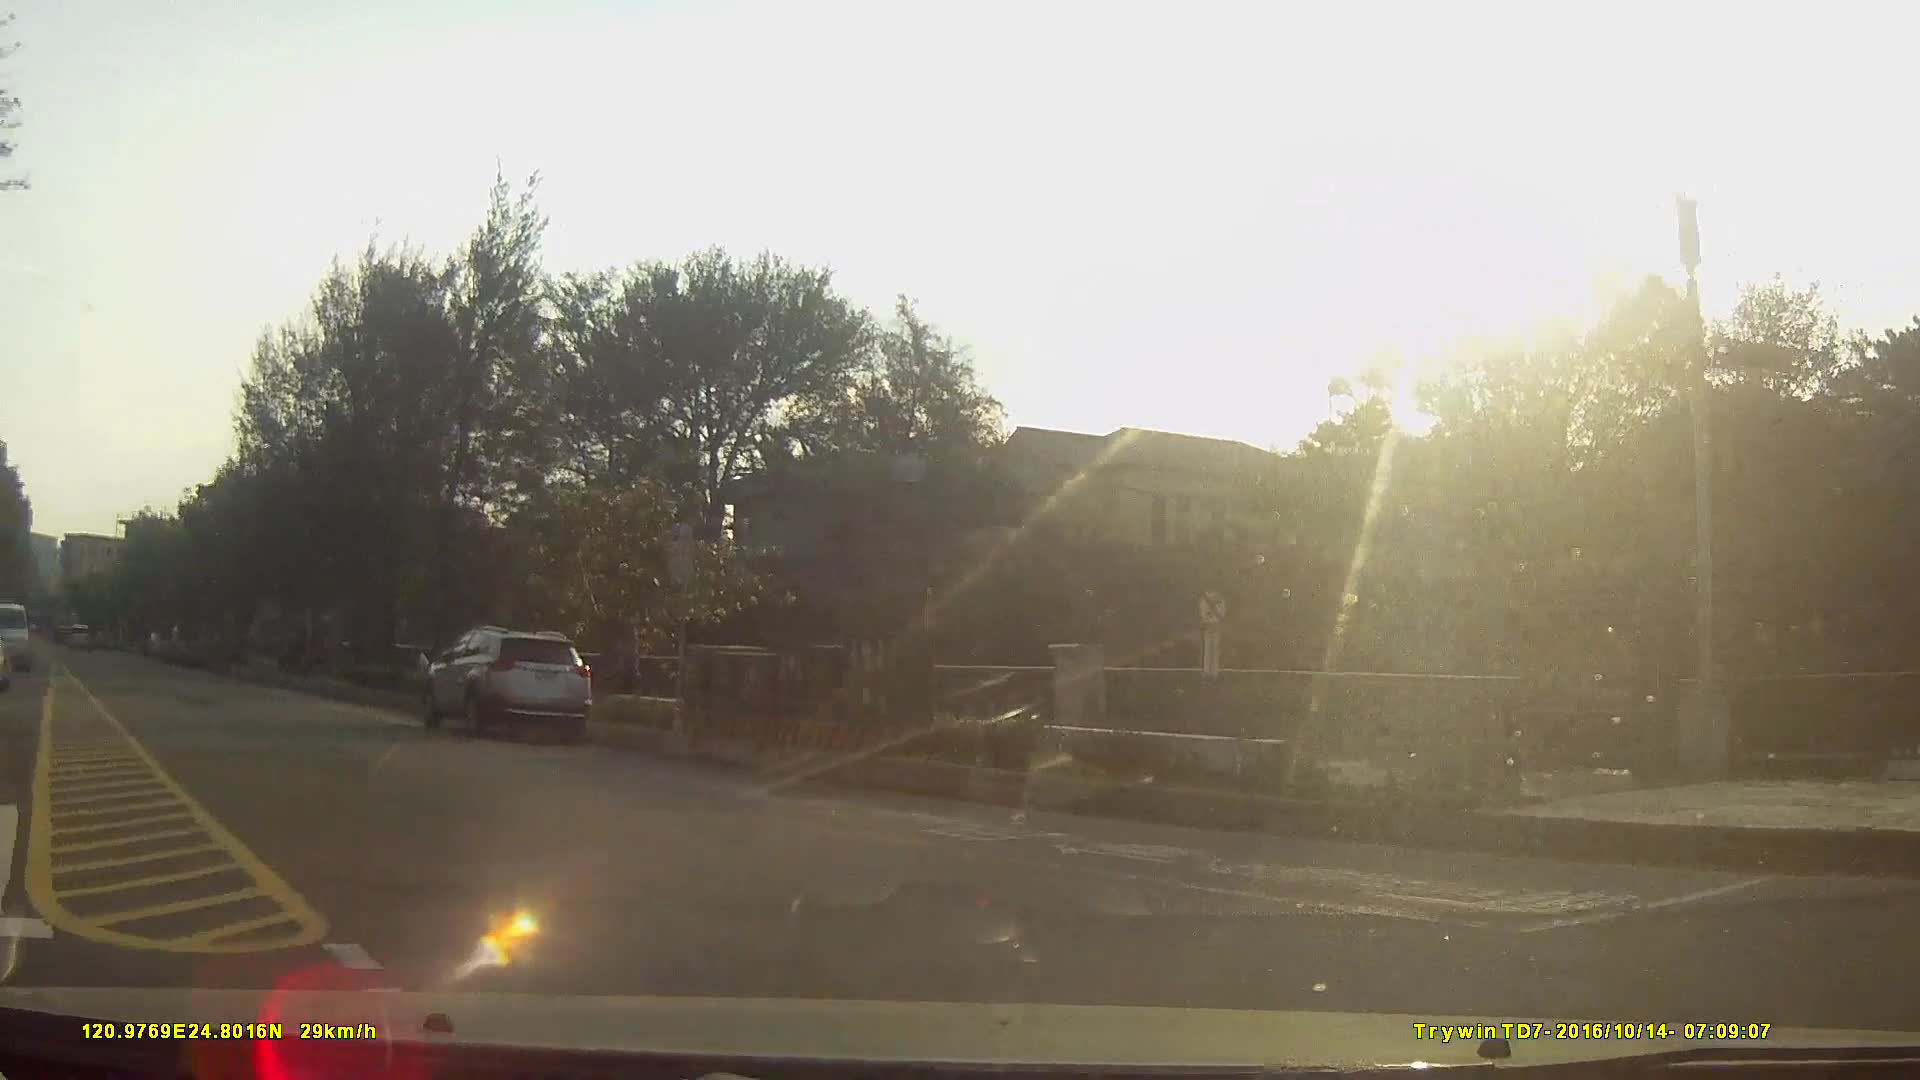vehicle: (421, 622, 589, 740), (0, 601, 32, 670)
